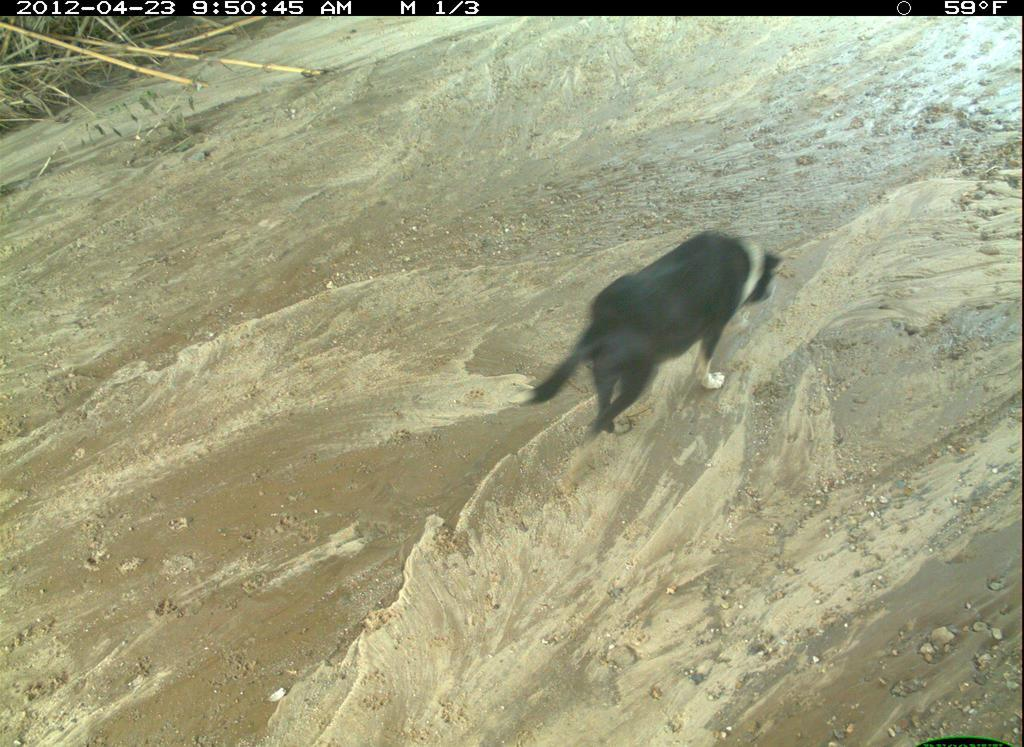dog: (1008, 445, 1024, 747)
